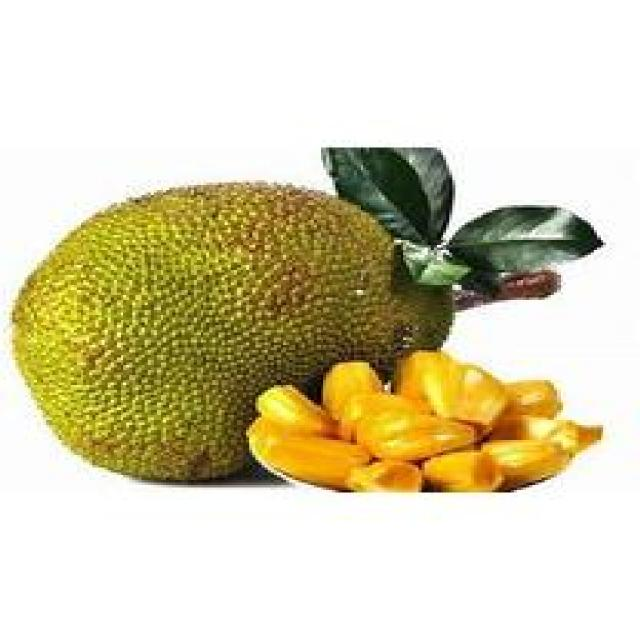Fruit: (0, 163, 425, 485)
